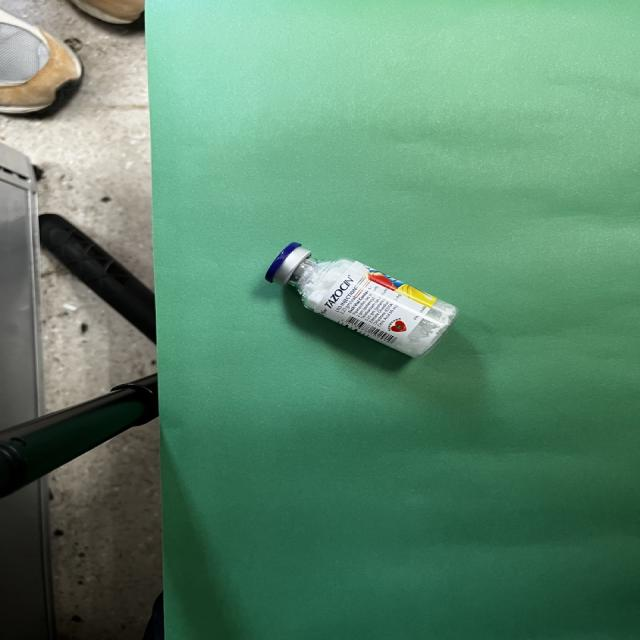Vials: (265, 242, 460, 359)
